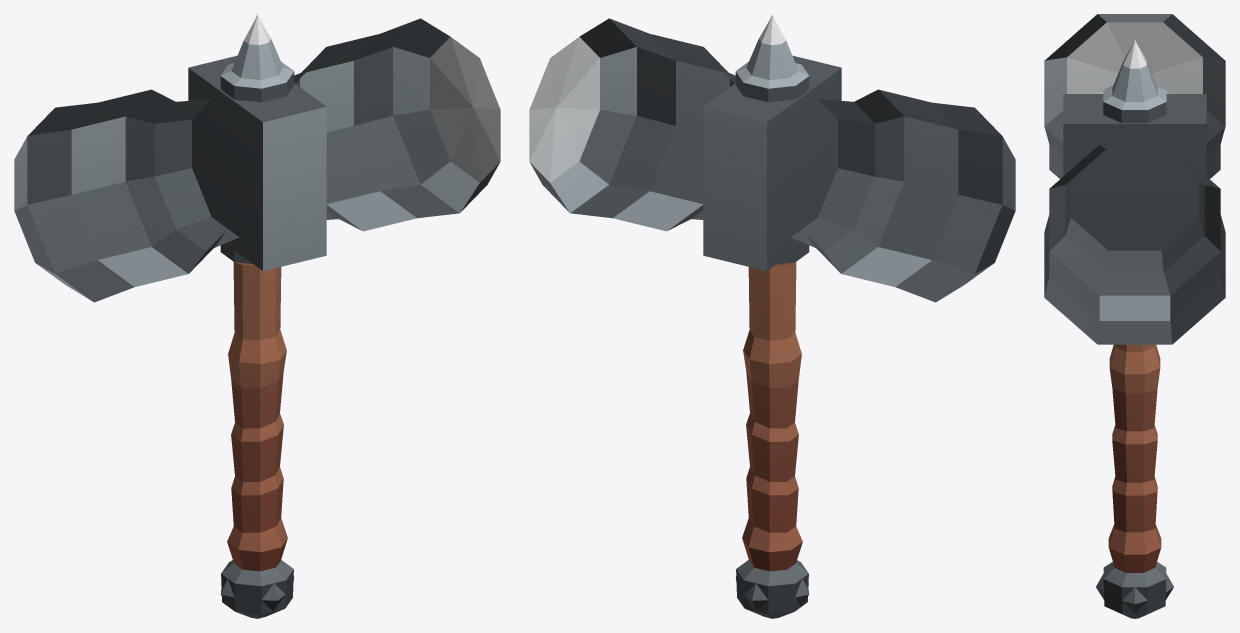
Rendered from warhammer_iron.glb.
3 renders of one model, left to right at view 1: azimuth 30°, elevation 25°; view 2: azimuth 150°, elevation 25°; view 3: azimuth 270°, elevation 25°, orthographic. The views are drawn at different scales.
Visible parts, largest first — view 1: model; view 2: model; view 3: model.
Part boxes in pixels (x1=…): model: x1=14, y1=14, x2=500, y2=618; model: x1=529, y1=14, x2=1015, y2=618; model: x1=1044, y1=14, x2=1225, y2=618.
Bounding box in the file's own units: 1.48 × 1.98 × 0.56.
1 material, 1 textured.
